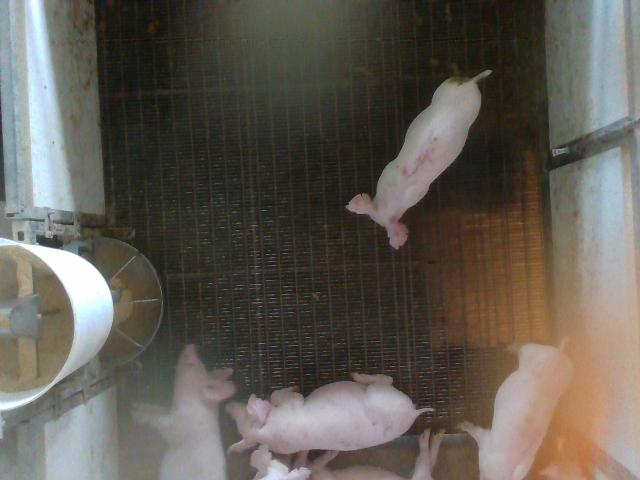pig-4: (460, 340, 572, 479)
pig-5: (346, 70, 491, 248)
